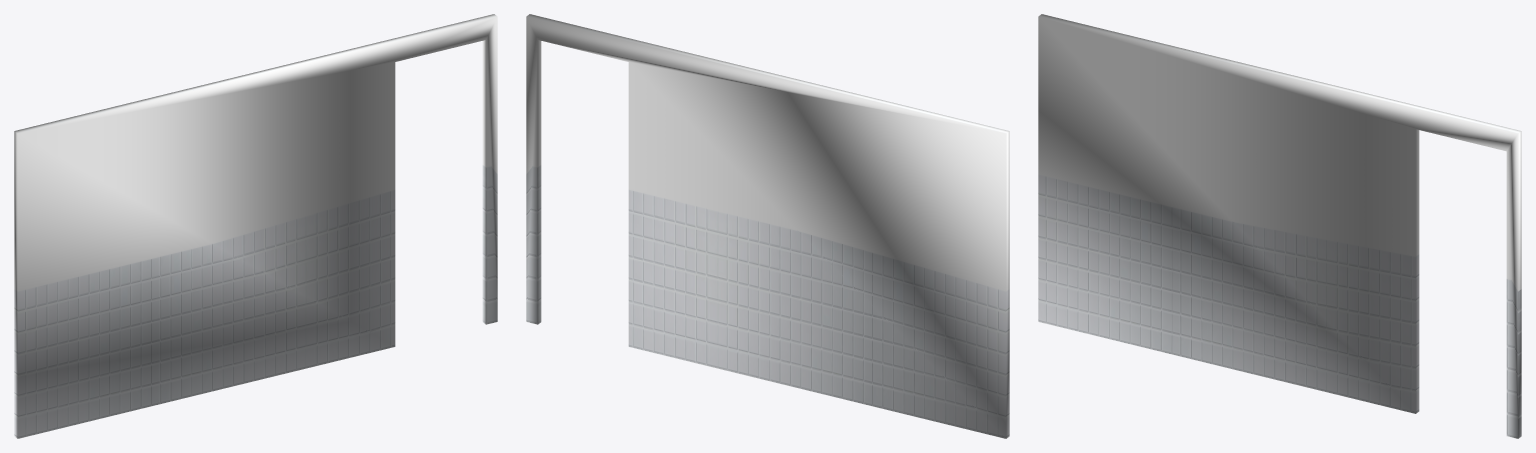
File: Parede da sala conhecimenho.fbx
The picture shows the model from 3 angles, left to right: view 1: azimuth 30°, elevation 25°; view 2: azimuth 150°, elevation 25°; view 3: azimuth 330°, elevation 25°; orthographic projection.
Parts seen in each view (by area): view 1: corredor T 01.002; view 2: corredor T 01.002; view 3: corredor T 01.002.
Boxes of the visible parts, <box> form: corredor T 01.002: <box>14,14,497,438</box>; corredor T 01.002: <box>526,14,1009,438</box>; corredor T 01.002: <box>1038,14,1521,438</box>.
Bounding box in the file's own units: 7.35 × 4.47 × 0.095.
1 material, 1 textured.
